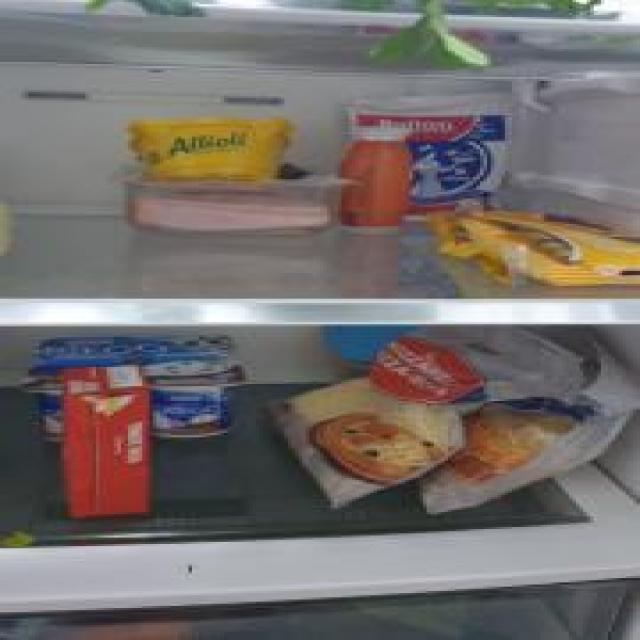grated_cheese: (270, 324, 587, 516), (416, 324, 640, 516)
tomato_sauce: (60, 368, 156, 524)
yogurt: (148, 360, 247, 440)
